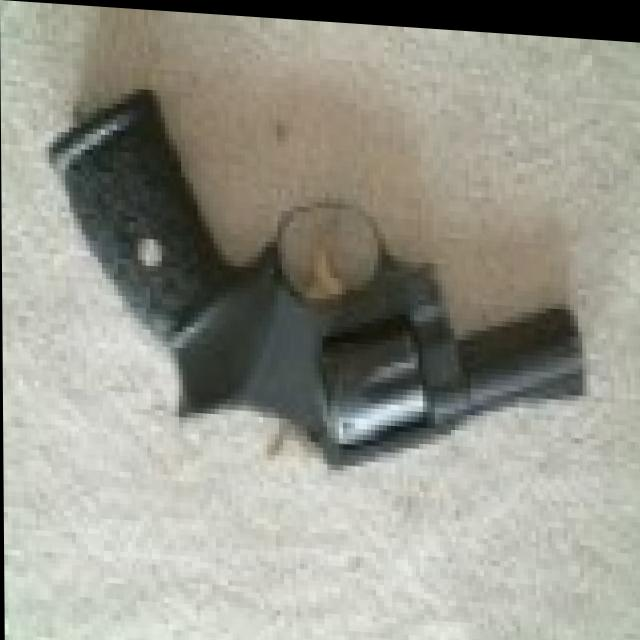handgun: (40, 77, 571, 488)
